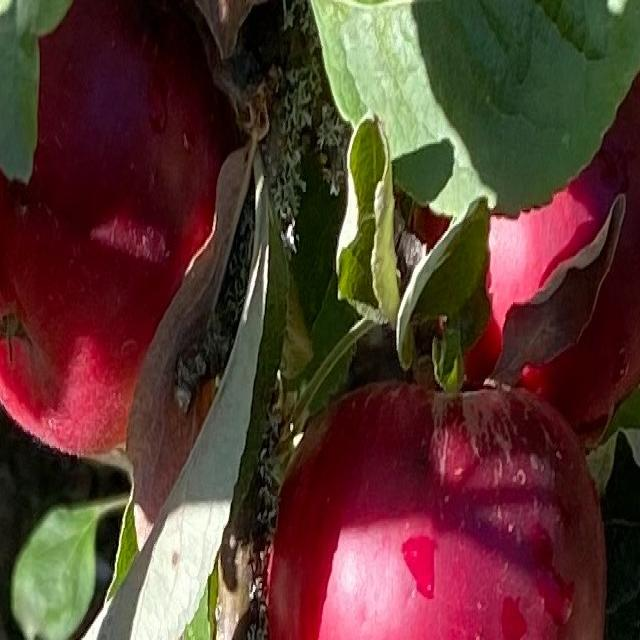100-_ripeness: (0, 0, 244, 455), (268, 380, 606, 640), (411, 68, 640, 423)
